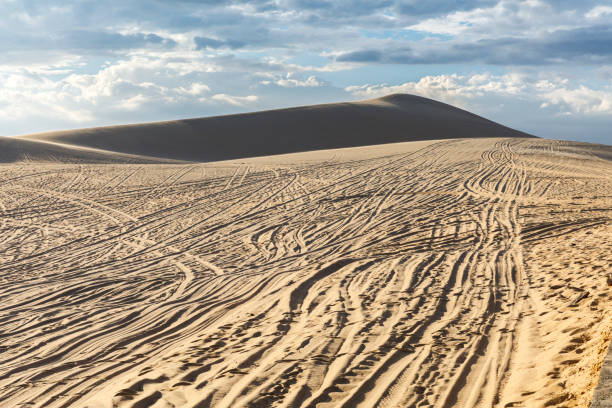vehicle_track: (0, 139, 611, 407)
